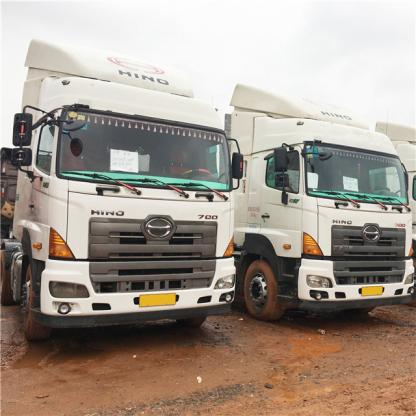dump_truck: (1, 28, 237, 343), (224, 61, 416, 324)
